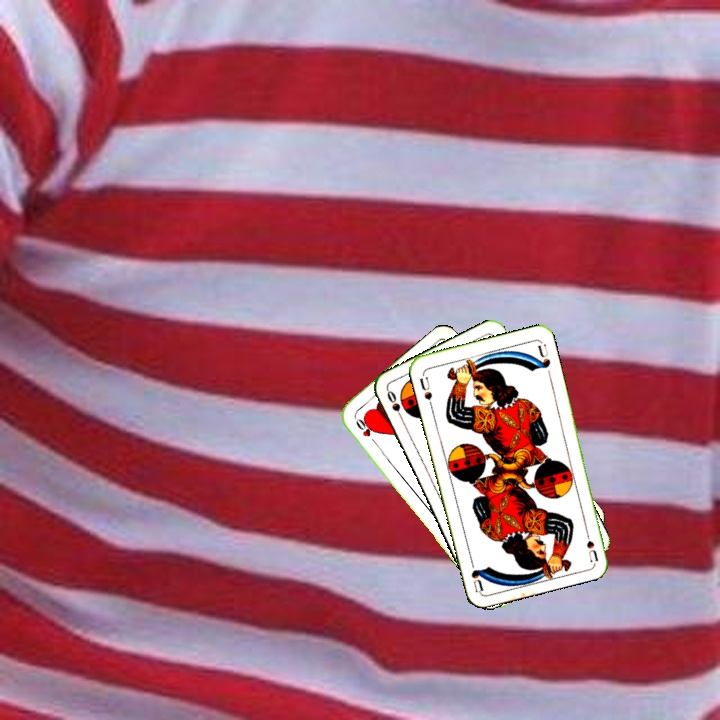HO: (350, 413, 380, 448)
SO: (383, 386, 406, 425)
SU: (581, 523, 600, 563), (415, 373, 435, 410)
